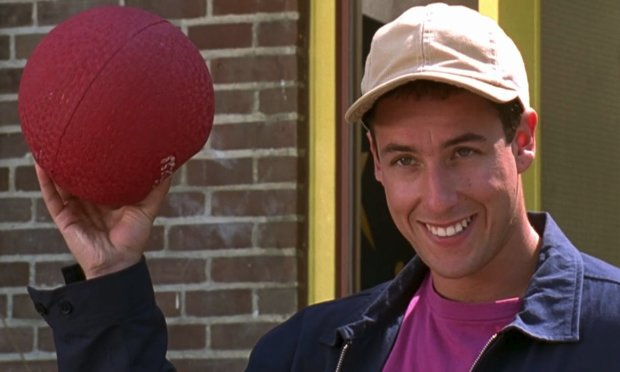red ball: (15, 6, 218, 209)
